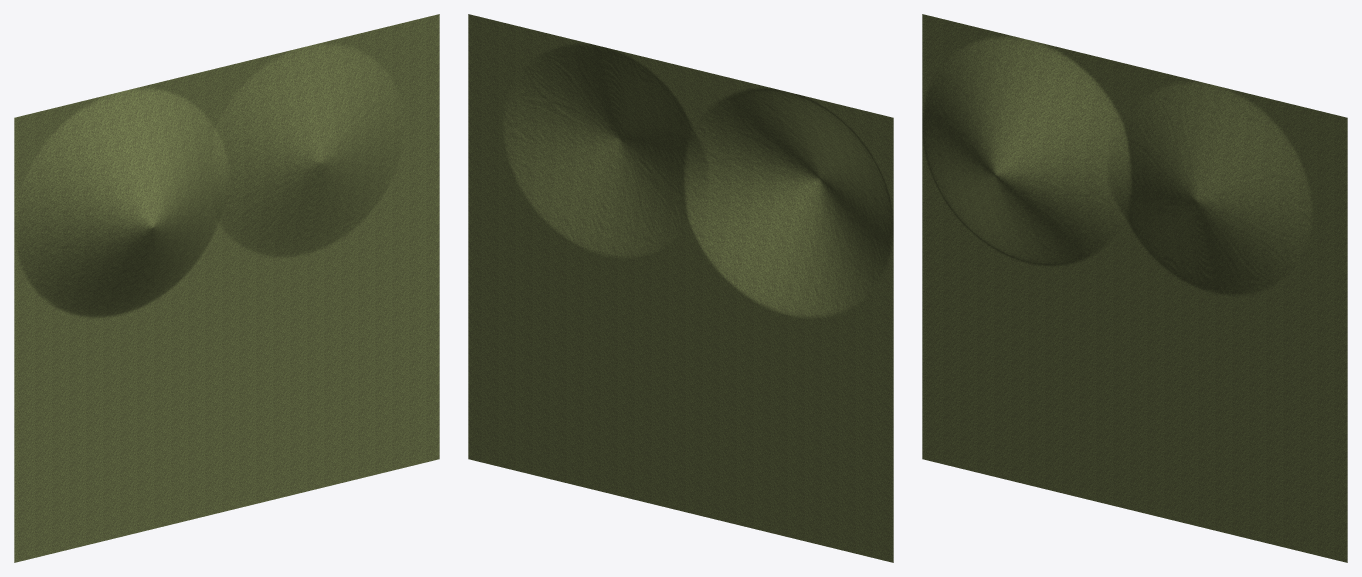
File: ugv_mou_terrain_collision.obj
3 renders of one model, left to right at view 1: azimuth 30°, elevation 25°; view 2: azimuth 150°, elevation 25°; view 3: azimuth 330°, elevation 25°, orthographic.
Visible parts, largest first — view 1: ugv_mou_terrain_300m; view 2: ugv_mou_terrain_300m; view 3: ugv_mou_terrain_300m.
Boxes of the visible parts, bbox=[...] form: ugv_mou_terrain_300m: bbox=[14, 14, 439, 562]; ugv_mou_terrain_300m: bbox=[468, 14, 893, 562]; ugv_mou_terrain_300m: bbox=[922, 14, 1347, 562].
Bounding box in the file's own units: 300 × 300 × 40.
Materials: 1 (1 with a texture image).
